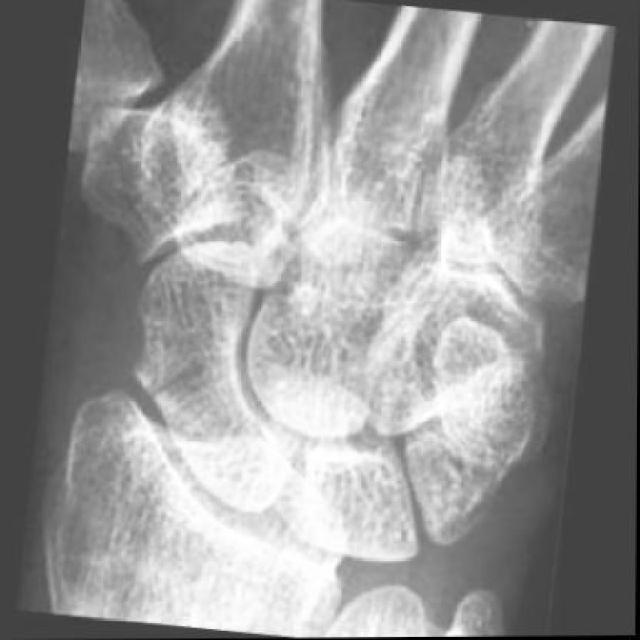Fracture: (135, 342, 219, 403)
